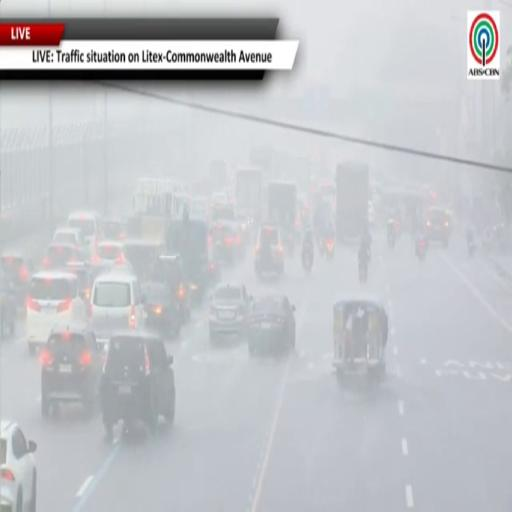car: (101, 332, 175, 439), (40, 325, 102, 417), (26, 271, 86, 354), (90, 272, 145, 345), (0, 421, 37, 511), (248, 295, 295, 355), (151, 255, 191, 323), (63, 262, 111, 315), (209, 283, 251, 343), (142, 282, 182, 338), (0, 250, 34, 307), (124, 238, 164, 281), (209, 221, 245, 264), (255, 224, 284, 276), (68, 211, 102, 247), (0, 270, 17, 340), (42, 243, 85, 269), (425, 207, 451, 246), (93, 240, 125, 265), (53, 227, 86, 247), (102, 219, 127, 241), (190, 197, 209, 221)
motorcycle: (387, 219, 396, 248), (416, 238, 426, 261), (302, 251, 312, 274), (467, 232, 476, 257), (324, 238, 334, 260), (359, 262, 368, 283), (468, 240, 476, 257), (387, 232, 395, 248)
truck: (335, 162, 369, 243), (266, 181, 297, 253), (235, 168, 262, 223), (249, 146, 275, 182), (209, 159, 228, 190)
